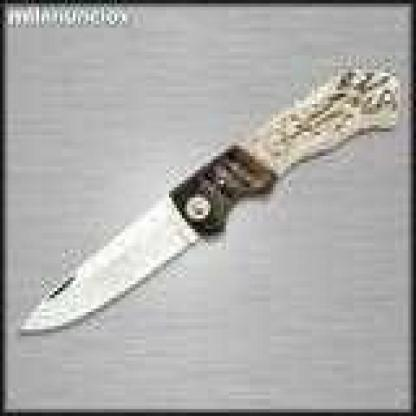Knife: (13, 57, 402, 341)
